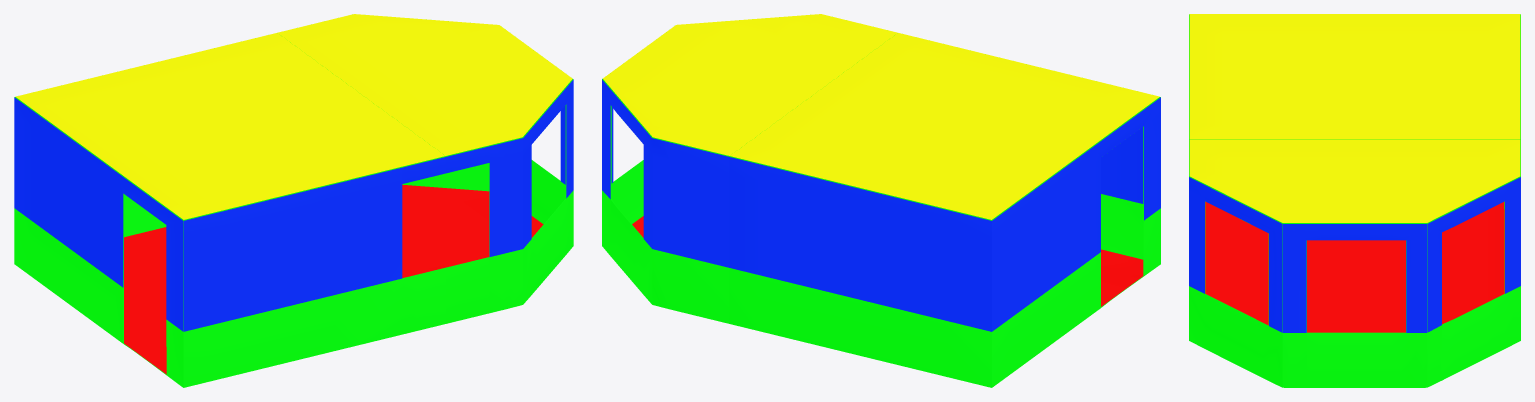
The model's file is Raum_fixed.fbx.
3 views of the same model, side by side, from view 1: azimuth 30°, elevation 25°; view 2: azimuth 150°, elevation 25°; view 3: azimuth 270°, elevation 25° (orthographic).
Visible parts, largest first — view 1: Raum_Export; view 2: Raum_Export; view 3: Raum_Export.
Boxes of the visible parts, x1,y1,x2,y2 form: Raum_Export: (14,14,573,387); Raum_Export: (602,14,1160,387); Raum_Export: (1189,14,1520,387).
Size of the model in its own units: 825 by 302 by 552.
